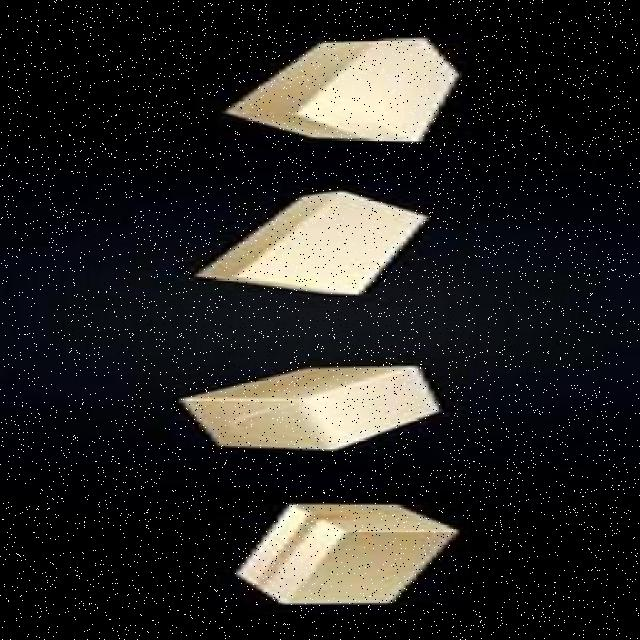normal: (215, 492, 460, 614)
